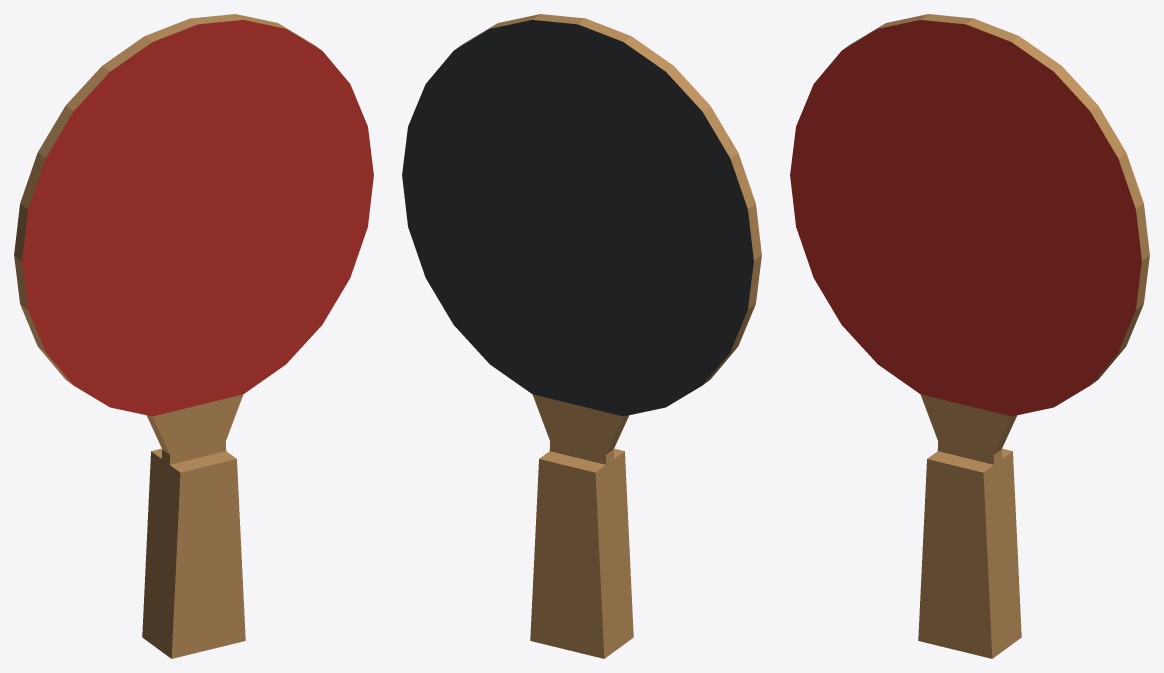
3 views of the same model, side by side, from view 1: azimuth 30°, elevation 25°; view 2: azimuth 150°, elevation 25°; view 3: azimuth 330°, elevation 25° (orthographic).
Parts seen in each view (by area): view 1: ContinuousOvalBladeNeckAndHandle, FrontTaperedSolidGripScale, BackTaperedSolidGripScale; view 2: ContinuousOvalBladeNeckAndHandle, BackTaperedSolidGripScale, FrontTaperedSolidGripScale; view 3: ContinuousOvalBladeNeckAndHandle, FrontTaperedSolidGripScale, BackTaperedSolidGripScale.
Boxes of the visible parts, x1,y1,x2,y2 form: ContinuousOvalBladeNeckAndHandle: [14, 14, 373, 650]; FrontTaperedSolidGripScale: [161, 451, 245, 658]; BackTaperedSolidGripScale: [142, 448, 162, 644]; ContinuousOvalBladeNeckAndHandle: [402, 14, 761, 650]; BackTaperedSolidGripScale: [530, 451, 614, 658]; FrontTaperedSolidGripScale: [613, 448, 633, 644]; ContinuousOvalBladeNeckAndHandle: [790, 14, 1149, 650]; FrontTaperedSolidGripScale: [918, 451, 1002, 658]; BackTaperedSolidGripScale: [1001, 448, 1021, 644].
Size of the model in its own units: 0.152 by 0.255 by 0.022.
